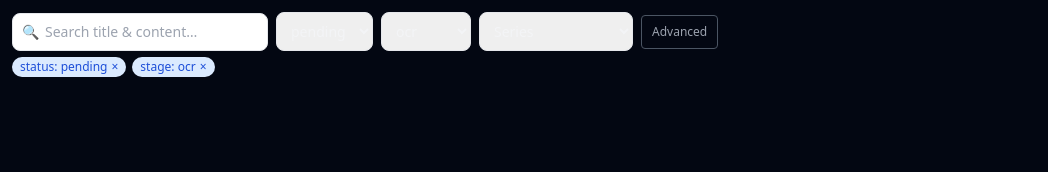
Test case: SearchBar › switching to advanced mode shows the assembled query
This screenshot has width=1048, height=172.
What coordinates should you click on to do the following:
click the button "Advanced"
I would click on:
 (680, 32)
Its box is [641,14,718,48].
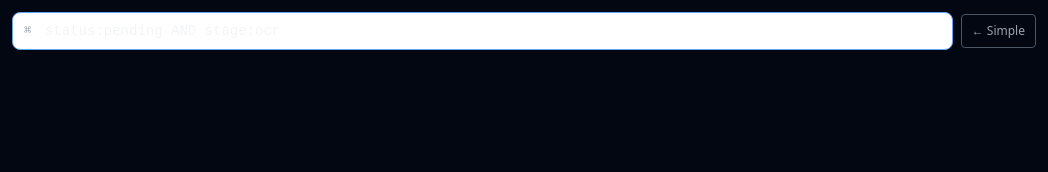
Expected: the field with placeholder "status:pending AND tags:invoice" holds "status:pending AND stage:ocr", [12,12,953,50]
